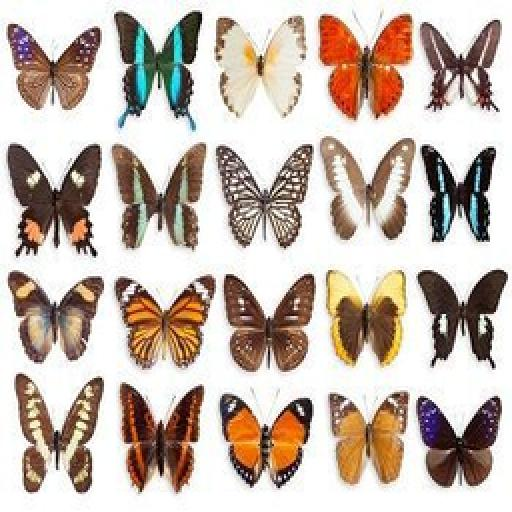insects: (12, 374, 106, 496), (6, 142, 104, 258), (316, 12, 416, 124), (110, 142, 208, 254), (112, 10, 202, 130), (214, 142, 314, 250), (216, 390, 316, 496), (318, 136, 416, 244), (112, 272, 216, 372), (118, 382, 208, 496), (6, 270, 106, 370), (222, 270, 318, 374), (214, 14, 306, 122), (416, 268, 510, 372), (414, 392, 504, 492), (322, 268, 410, 370), (6, 22, 102, 114), (326, 390, 410, 492), (420, 144, 500, 246), (420, 18, 504, 114)
